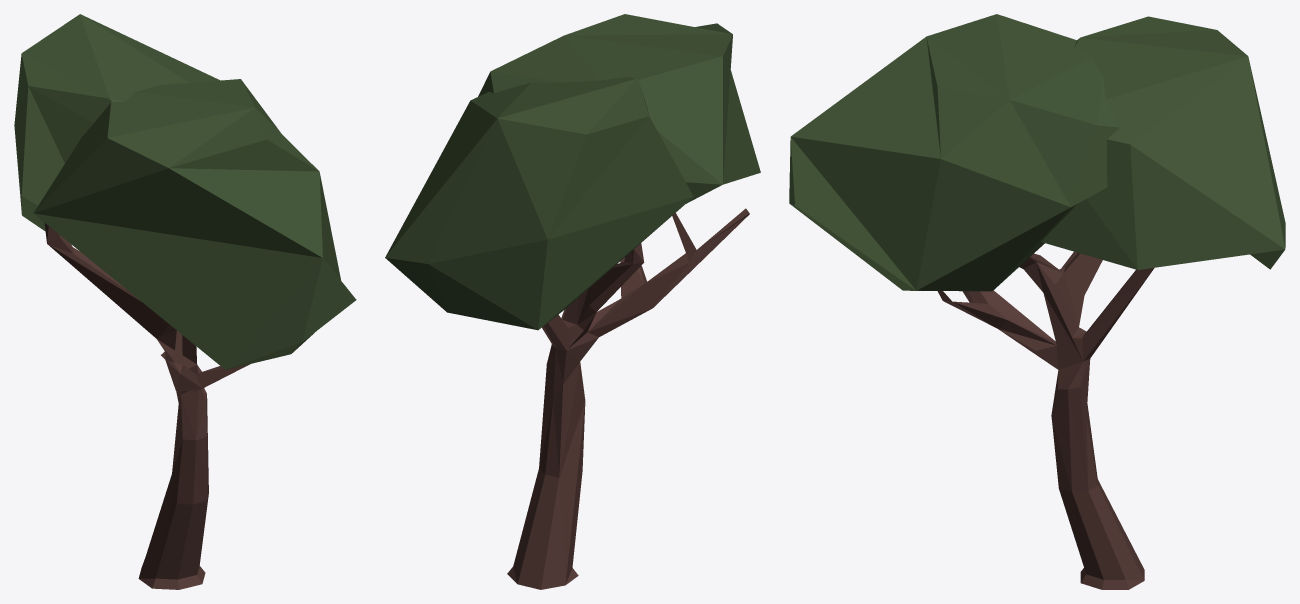
File: CommonTree_5_lod.glb
3 renders of one model, left to right at view 1: azimuth 30°, elevation 25°; view 2: azimuth 150°, elevation 25°; view 3: azimuth 270°, elevation 25°, orthographic.
Parts seen in each view (by area): view 1: CommonTree_5; view 2: CommonTree_5; view 3: CommonTree_5.
Boxes of the visible parts, left/top/right/bottom form: CommonTree_5: left=14, top=14, right=356, bottom=589; CommonTree_5: left=385, top=14, right=760, bottom=589; CommonTree_5: left=789, top=14, right=1285, bottom=589.
Size of the model in its own units: 1.29 by 2.48 by 2.19.
